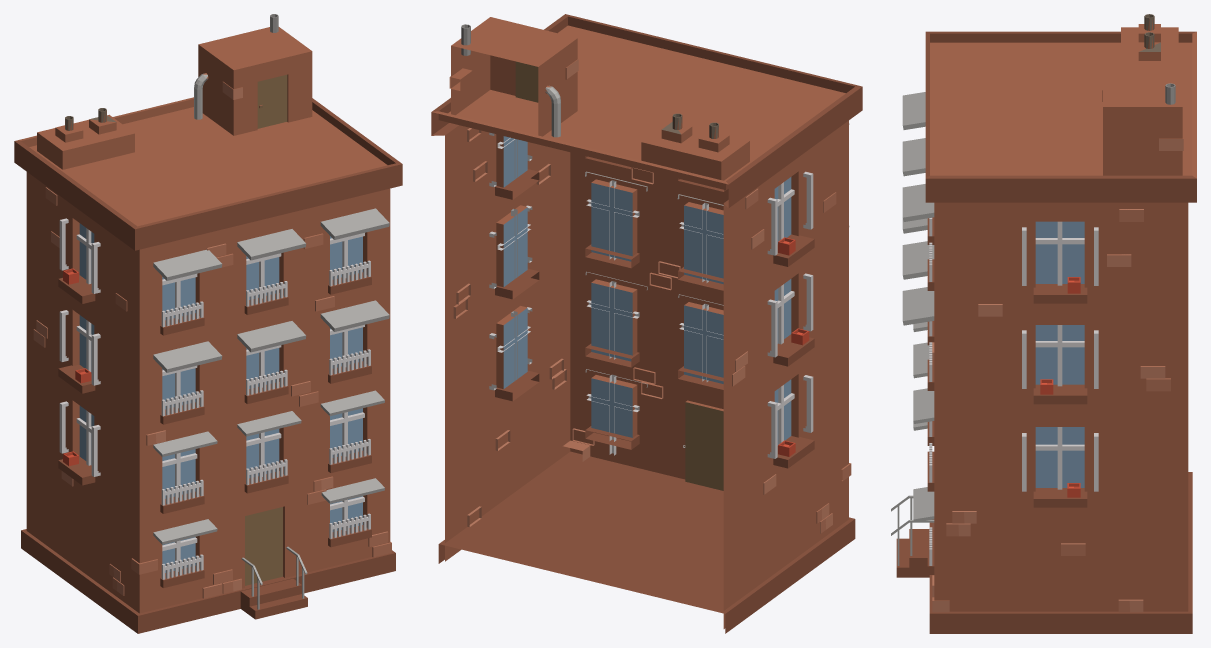
The model's file is LP_House_4.fbx.
3 views of the same model, side by side, from view 1: azimuth 30°, elevation 25°; view 2: azimuth 150°, elevation 25°; view 3: azimuth 270°, elevation 25° (orthographic). The views are drawn at different scales.
Parts seen in each view (by area): view 1: Cube, Cube.015, Cube.001, Cube.016, Cube.013, Cube.019, Cube.041, Cube.002, Cube.014, Cube.004, House_01.003; view 2: Cube, Cube.001, Cube.014, Cube.019, Cube.041, Cube.013, Cube.002, Cube.004; view 3: Cube, Cube.001, Cube.015, Cube.041, Cube.014, Cube.019, Cube.002, Cube.013, Cube.016, Cube.004, House_01.003.
Part boxes in pixels (<box>): Cube: <box>14,14,402,613</box>; Cube.015: <box>153,208,389,544</box>; Cube.001: <box>21,529,395,633</box>; Cube.016: <box>161,260,370,579</box>; Cube.013: <box>160,272,371,588</box>; Cube.019: <box>76,228,364,571</box>; Cube.041: <box>33,187,391,598</box>; Cube.002: <box>59,218,100,476</box>; Cube.014: <box>58,275,95,485</box>; Cube.004: <box>63,268,91,466</box>; House_01.003: <box>241,546,307,609</box>; Cube: <box>431,14,862,628</box>; Cube.001: <box>438,451,855,633</box>; Cube.014: <box>495,169,814,468</box>; Cube.019: <box>497,137,794,455</box>; Cube.041: <box>453,128,851,533</box>; Cube.013: <box>585,156,728,449</box>; Cube.002: <box>489,132,813,458</box>; Cube.004: <box>778,237,809,456</box>; Cube: <box>925,14,1196,611</box>; Cube.001: <box>896,472,1192,633</box>; Cube.015: <box>902,92,934,522</box>; Cube.041: <box>932,209,1170,612</box>; Cube.014: <box>1033,284,1087,507</box>; Cube.019: <box>1035,221,1084,489</box>; Cube.002: <box>1022,227,1098,491</box>; Cube.013: <box>927,217,934,574</box>; Cube.016: <box>929,217,932,565</box>; Cube.004: <box>1040,277,1080,497</box>; House_01.003: <box>891,495,934,565</box>.
Bounding box in the file's own units: 752 × 1245 × 638.
